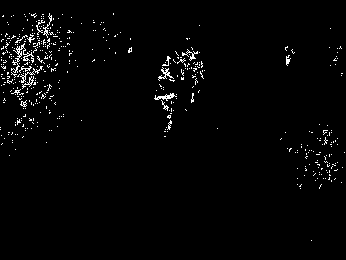person: (154, 65, 178, 136)
